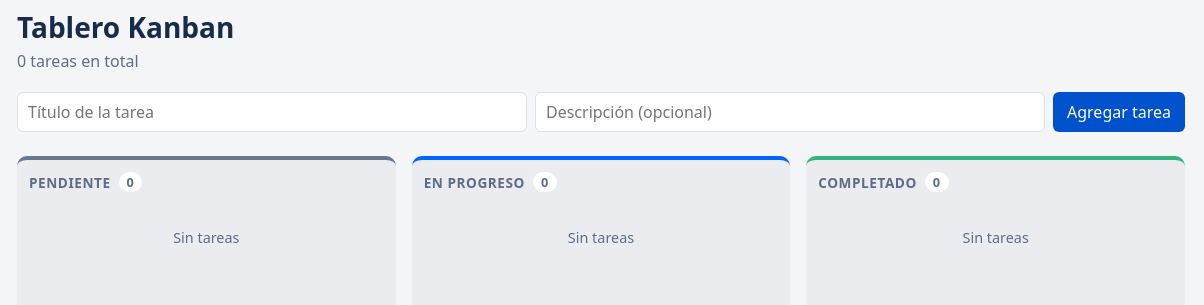
Test: App Kanban › crea una tarea en la columna Pendiente
This screenshot has width=1204, height=305.
Type "Escribir informe" into the field labelled "Título de la tarea" at (272, 112), box [17,92,527,132]
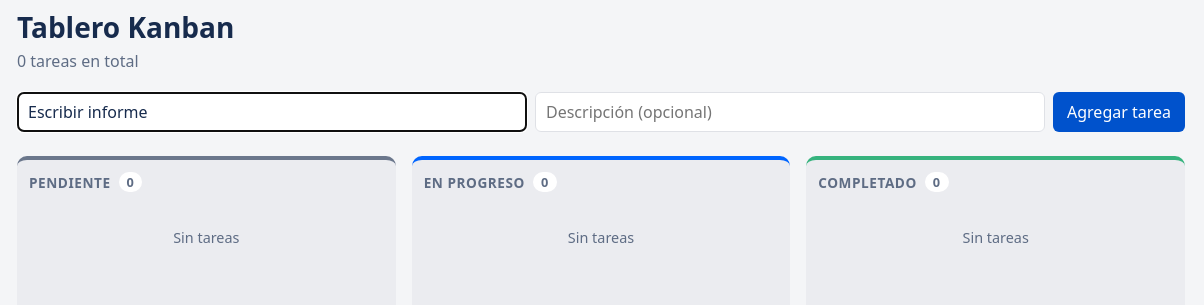
Click the button "Agregar tarea" at (1119, 112), box [1053,92,1185,132]
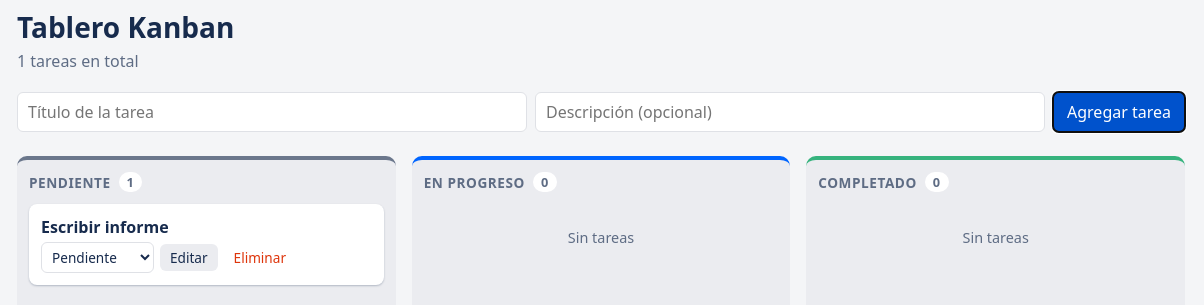
Now the heading "Escribir informe" is shown, box [41,216,169,238]
